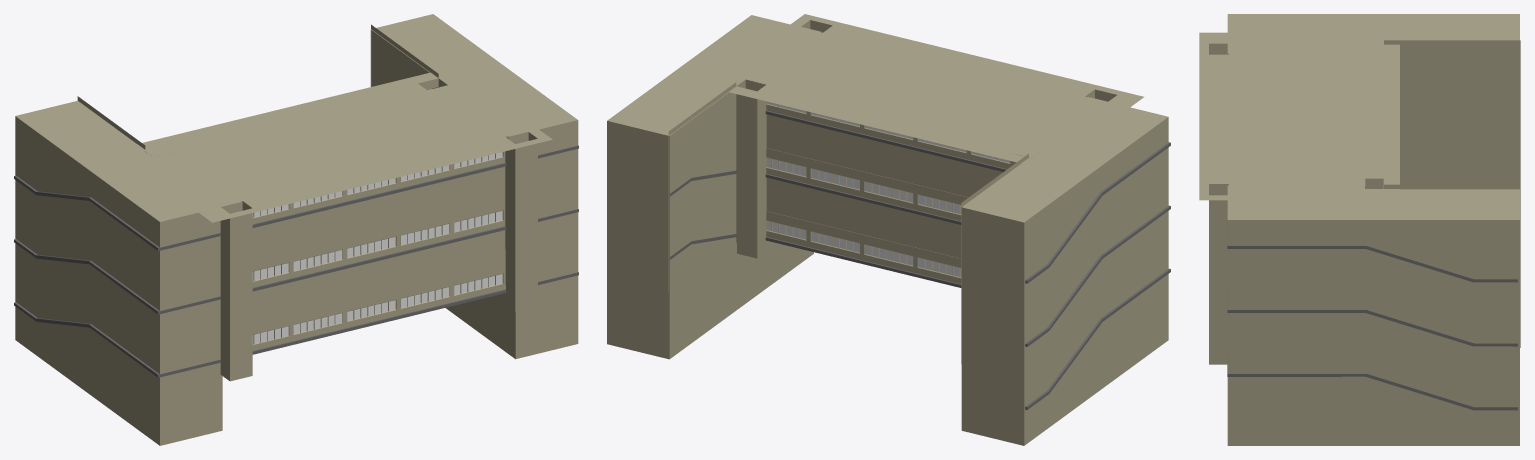
File: Mapa3.fbx
3 views of the same model, side by side, from view 1: azimuth 30°, elevation 25°; view 2: azimuth 150°, elevation 25°; view 3: azimuth 270°, elevation 25° (orthographic).
Visible parts, largest first — view 1: Cube.008, Cube.017, Cube.004, Cube, Plane.008, Plane.004, Plane; view 2: Cube.008, Cube.004, Cube.017, Cube, Plane, Plane.004, Plane.008; view 3: Cube.008, Plane, Plane.008, Plane.004.
Boxes of the visible parts, x1,y1,x2,y2 form: Cube.008: (15,14,578,445); Cube.017: (252,264,505,350); Cube.004: (252,201,505,287); Cube: (241,136,507,224); Plane.008: (14,272,578,377); Plane.004: (14,209,578,314); Plane: (14,145,578,251); Cube.008: (607,14,1168,445); Cube.004: (766,148,968,220); Cube.017: (766,211,961,284); Cube: (753,81,1010,169); Plane: (670,110,1170,283); Plane.004: (670,174,1170,346); Plane.008: (765,237,1170,409); Cube.008: (1199,14,1520,445); Plane: (1227,221,1517,282); Plane.008: (1227,349,1517,410); Plane.004: (1227,285,1517,346).
Size of the model in its own units: 25078 by 13018 by 16449.
